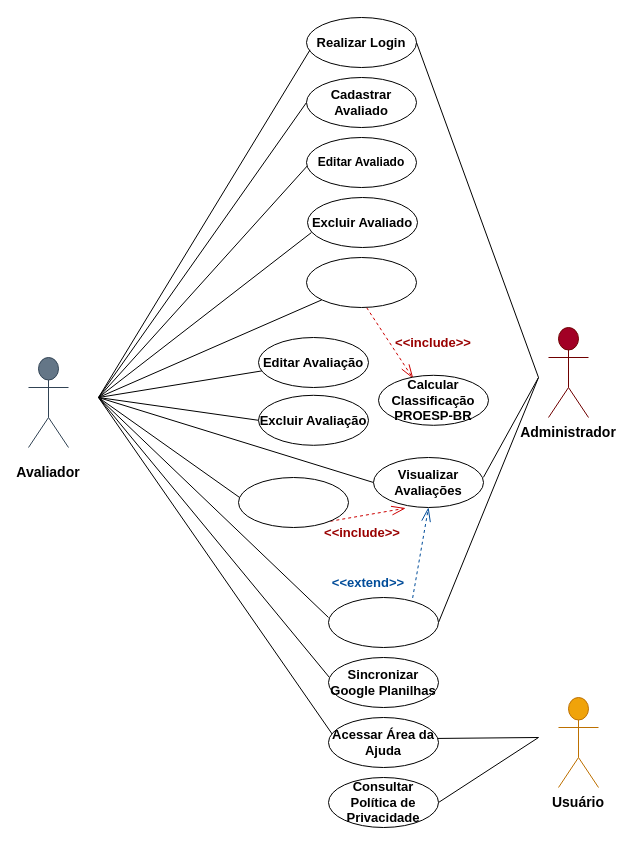
Some shapes in this 634 by 845 pixel diagram are drawn without their labels. Here are the shapes that lost their labels. From the top down, the box of each, then its label:
(306, 256, 416, 308): Registrar Avaliação
(238, 476, 348, 528): Gerar Relatórios PDF
(328, 596, 438, 648): Exportar Dados
